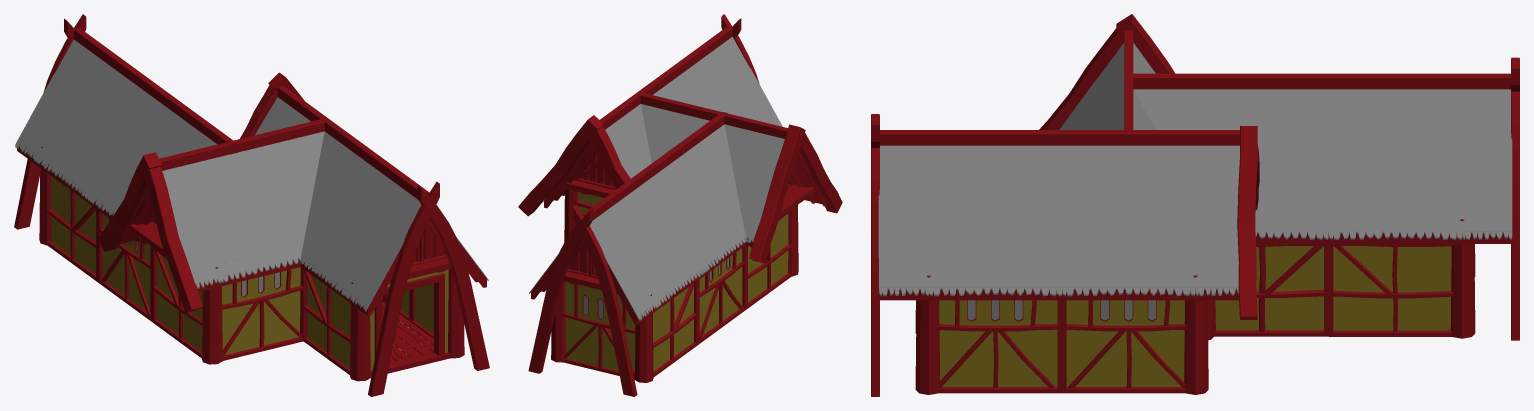
Rendered from SM_MH_01_House_08.fbx.
3 views of the same model, side by side, from view 1: azimuth 30°, elevation 25°; view 2: azimuth 150°, elevation 25°; view 3: azimuth 270°, elevation 25° (orthographic). The views are drawn at different scales.
Parts seen in each view (by area): view 1: SM_MH_01_House_08_LOD0; view 2: SM_MH_01_House_08_LOD0; view 3: SM_MH_01_House_08_LOD0, SM_MH_01_House_08_Windows.
Part boxes in pixels (box(x1,y1,x2,y2)): SM_MH_01_House_08_LOD0: box(14, 14, 489, 396); SM_MH_01_House_08_LOD0: box(518, 14, 842, 396); SM_MH_01_House_08_LOD0: box(871, 14, 1519, 396); SM_MH_01_House_08_Windows: box(967, 300, 1155, 320).
Size of what is drawn, in the model's own units: 852 by 600 by 1460.
